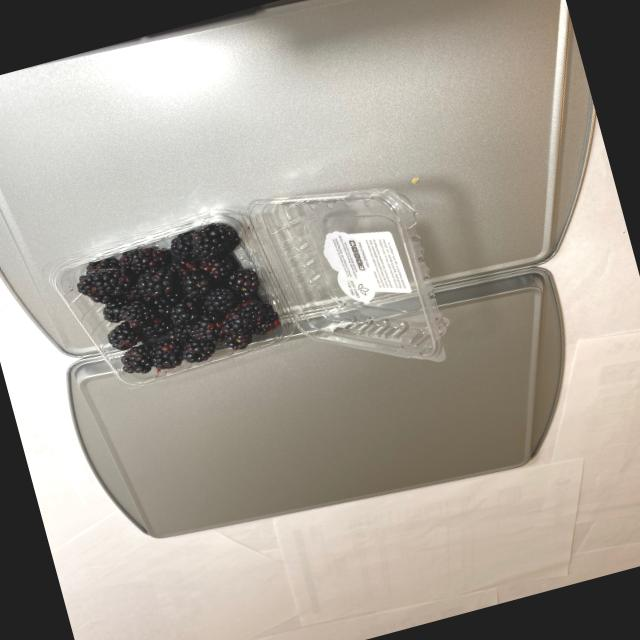blackberries: (82, 215, 274, 387)
